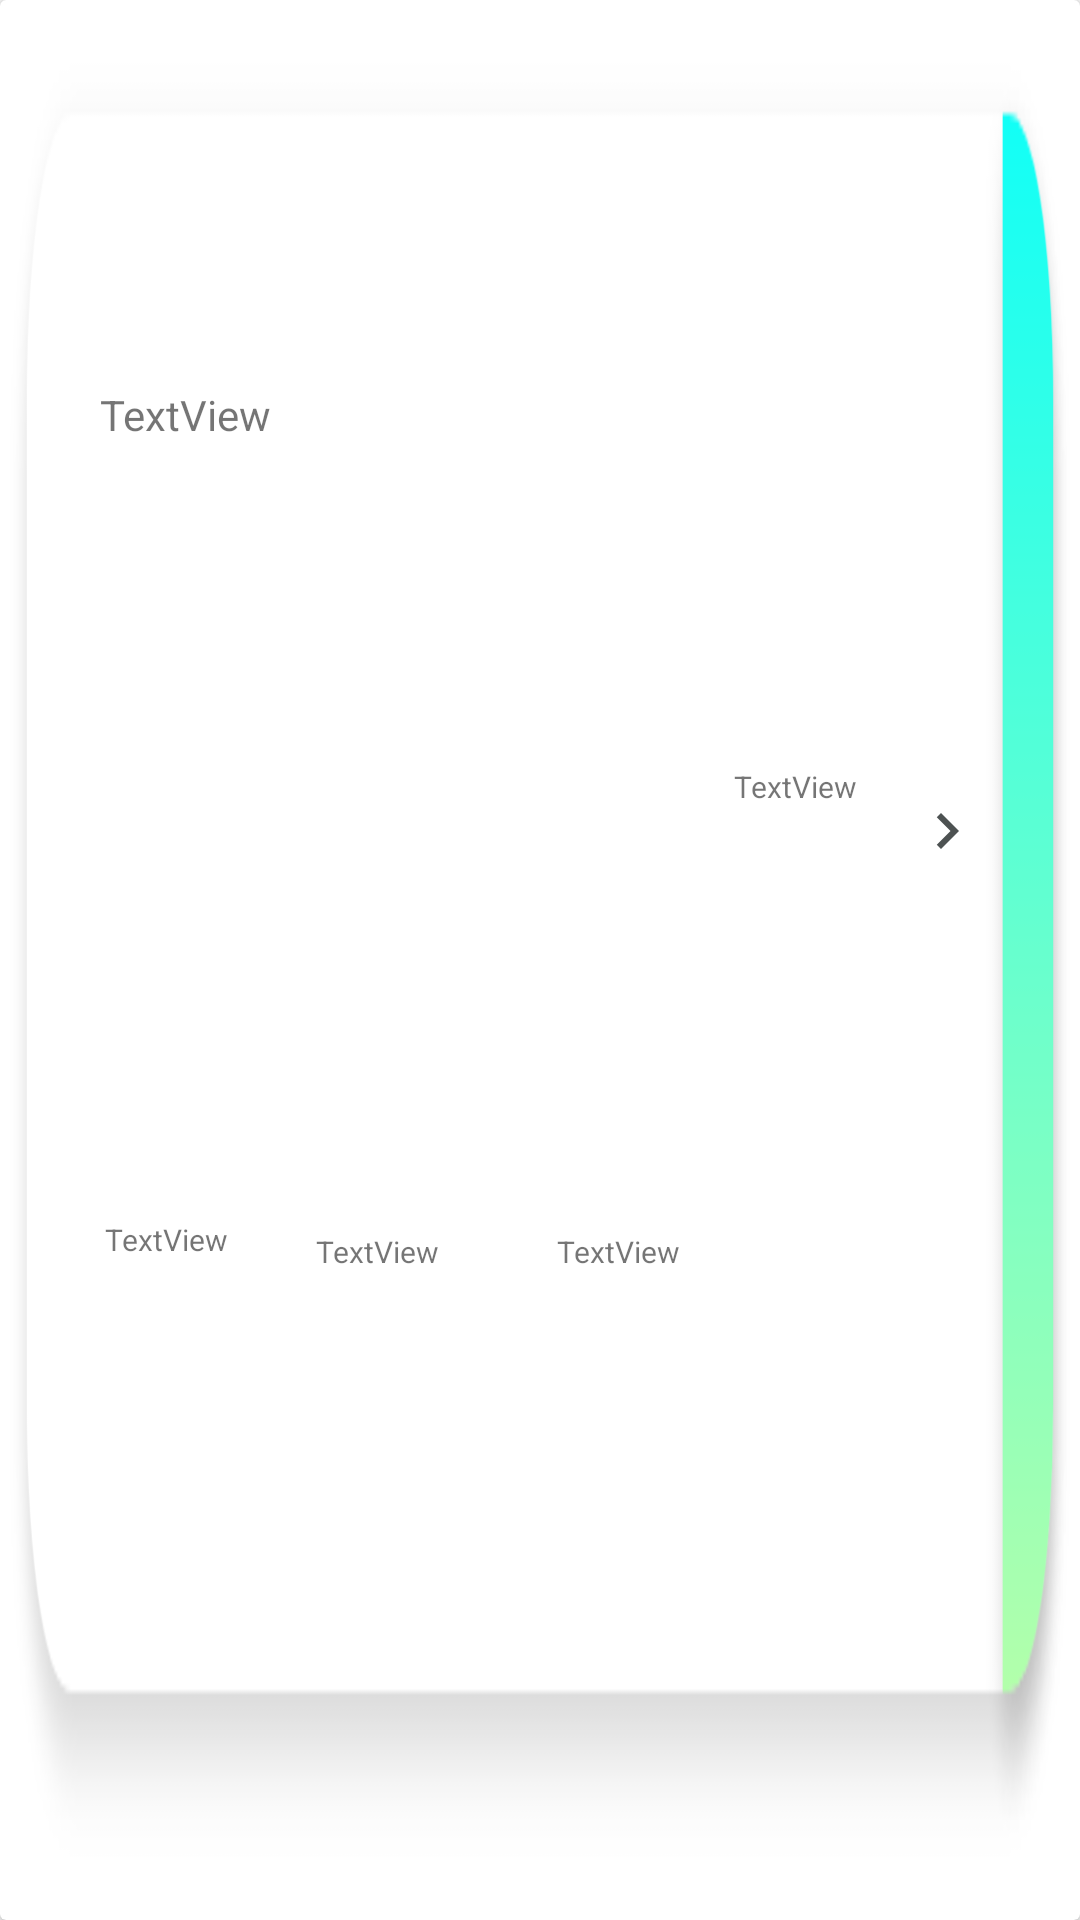

Where icons sit on this 1080*1920 app screen, as (x1, y1, x2, y2):
chevron right: (937, 813, 959, 849)
